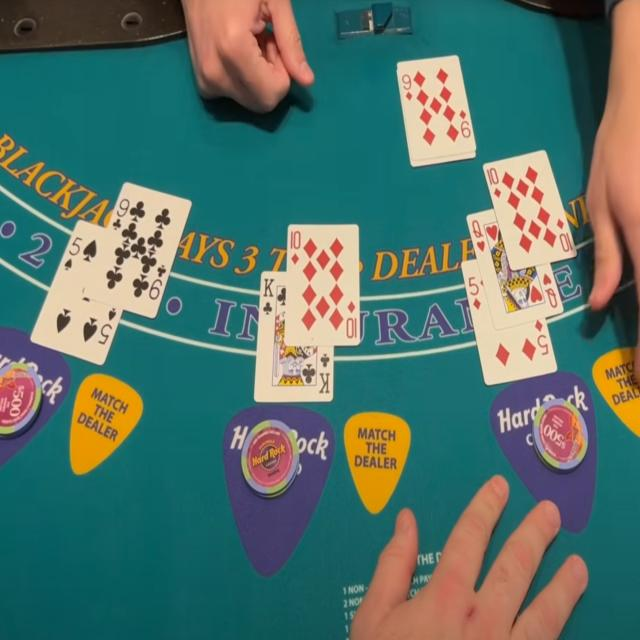10: (289, 228, 303, 252), (485, 166, 501, 187)
5: (68, 234, 83, 256), (466, 274, 480, 297)
9: (115, 196, 130, 218), (400, 72, 412, 92)
K: (262, 276, 275, 298)
Q: (470, 218, 484, 239)
